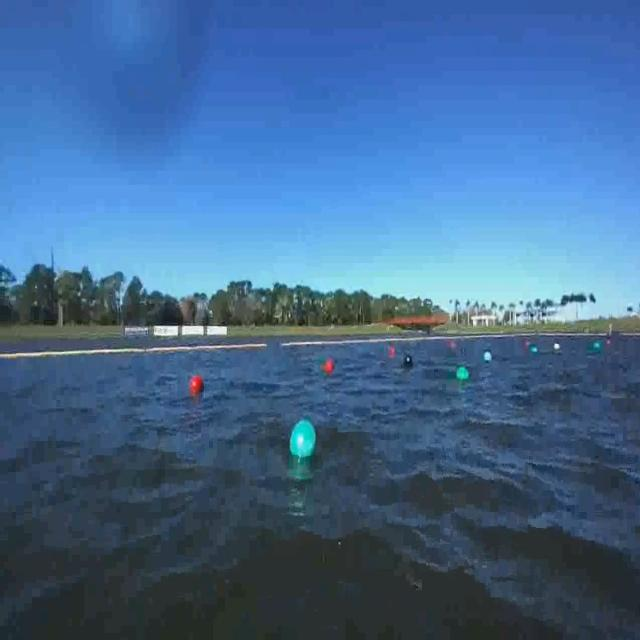black-buoy: (405, 354, 415, 368)
green-buoy: (291, 422, 318, 461), (457, 366, 469, 380), (530, 346, 538, 355), (485, 352, 492, 362)
red-buoy: (192, 374, 206, 392), (325, 359, 333, 373)
